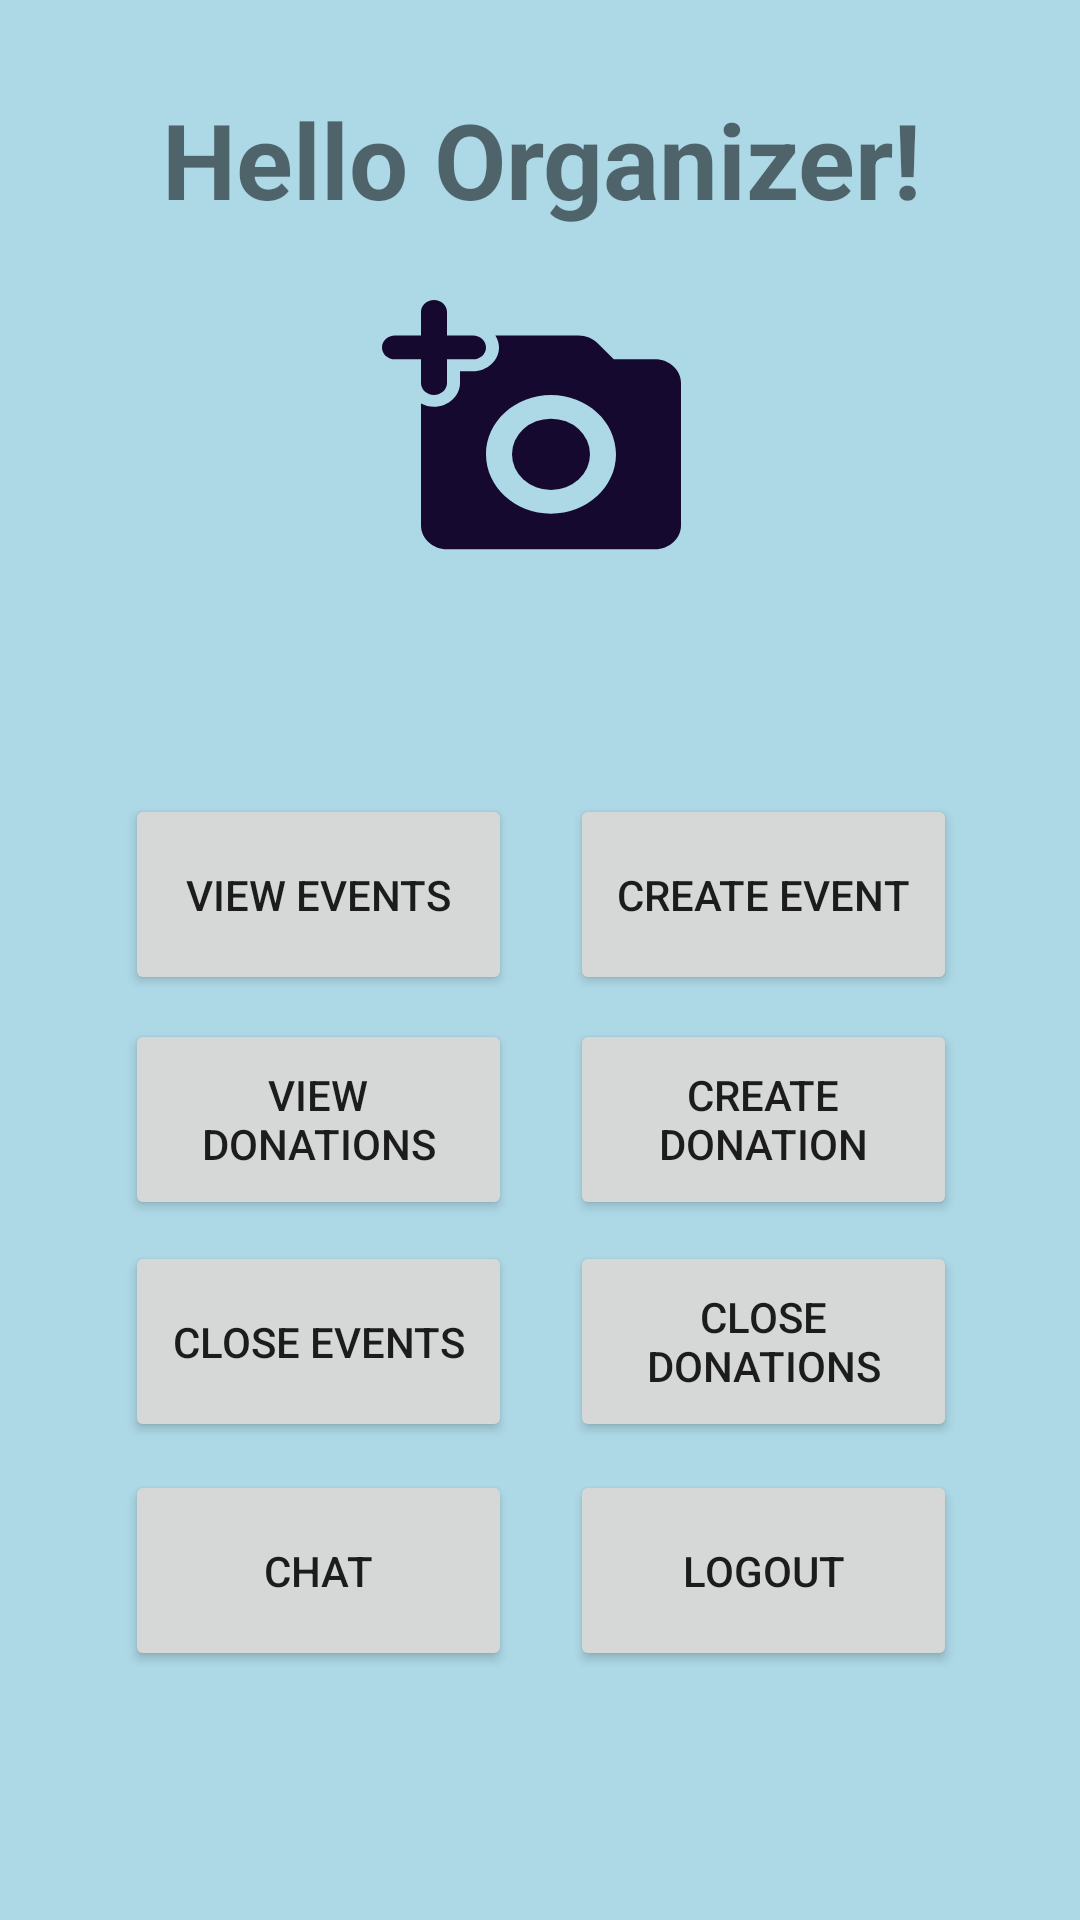

Named icons in this screenshot (1080×1920) and their bounding boxes, (x1, y1, x2, y2):
add photo: (382, 300, 681, 550)
